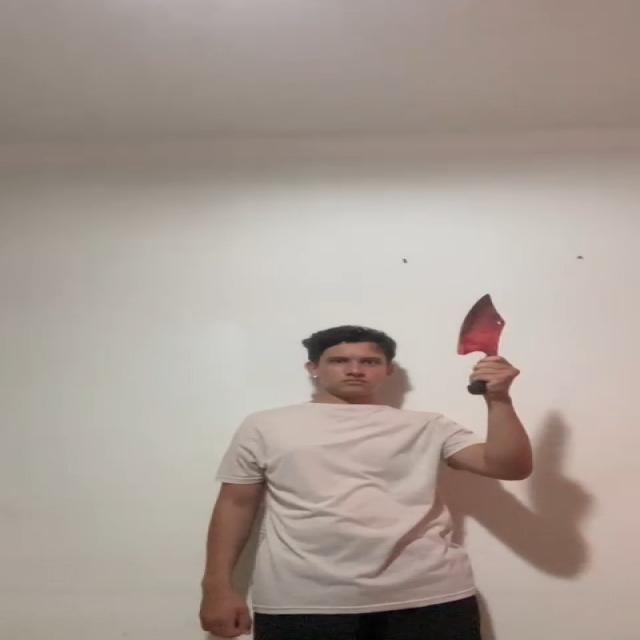knife: (456, 292, 512, 355)
